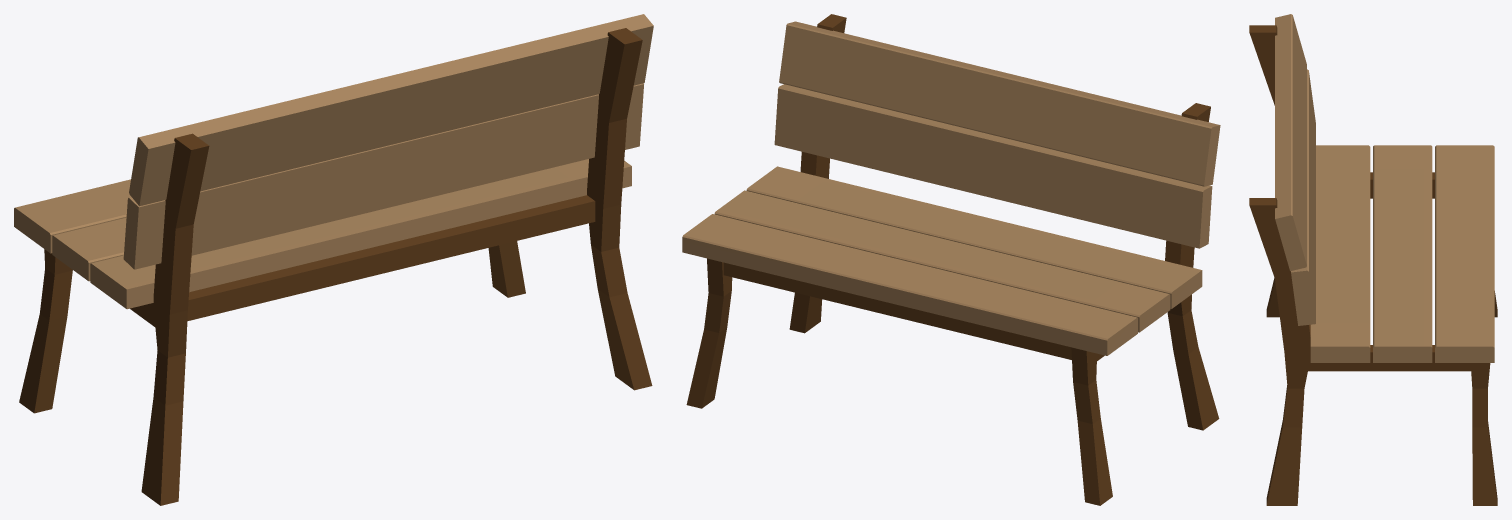
File: Bench.fbx
3 renders of one model, left to right at view 1: azimuth 30°, elevation 25°; view 2: azimuth 150°, elevation 25°; view 3: azimuth 270°, elevation 25°, orthographic. The views are drawn at different scales.
Visible parts, largest first — view 1: Cube.001; view 2: Cube.001; view 3: Cube.001.
Boxes of the visible parts, bbox=[...] form: Cube.001: bbox=[14, 14, 653, 505]; Cube.001: bbox=[682, 14, 1220, 505]; Cube.001: bbox=[1249, 14, 1497, 505].
Bounding box in the file's own units: 8 × 5.44 × 4.17.
